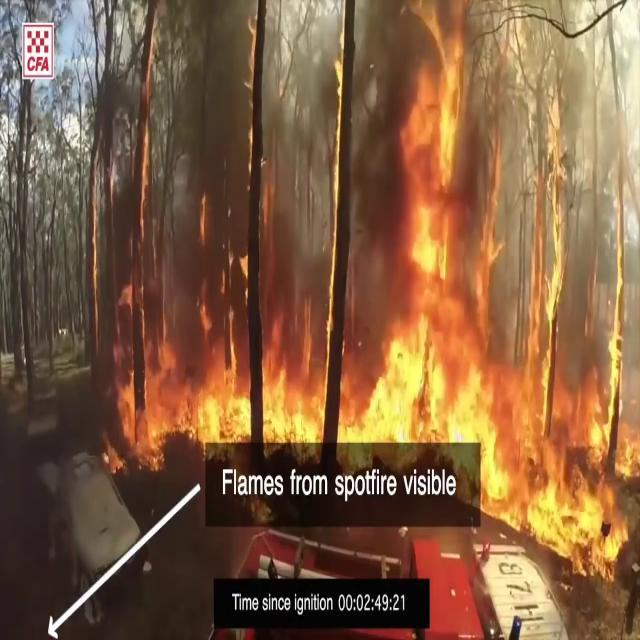Fire: (98, 295, 494, 487), (491, 120, 640, 604), (387, 0, 515, 295)
Smoke: (194, 0, 412, 310)
